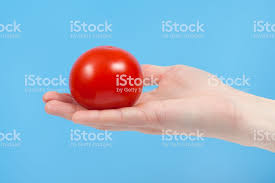tomato: (69, 47, 142, 109)
